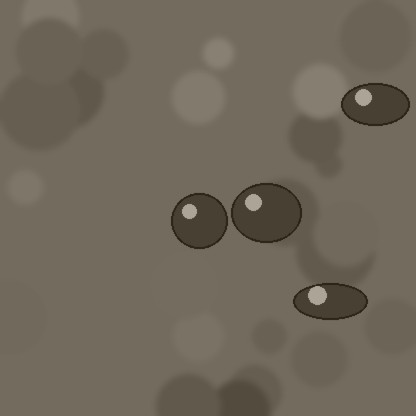gota: (231, 185, 301, 247), (171, 195, 227, 253), (341, 85, 409, 129), (293, 284, 367, 322)
